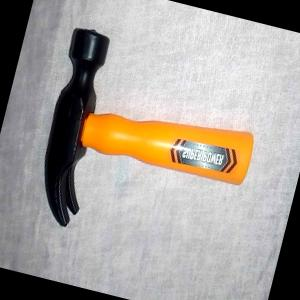martelo: (25, 23, 272, 268)
